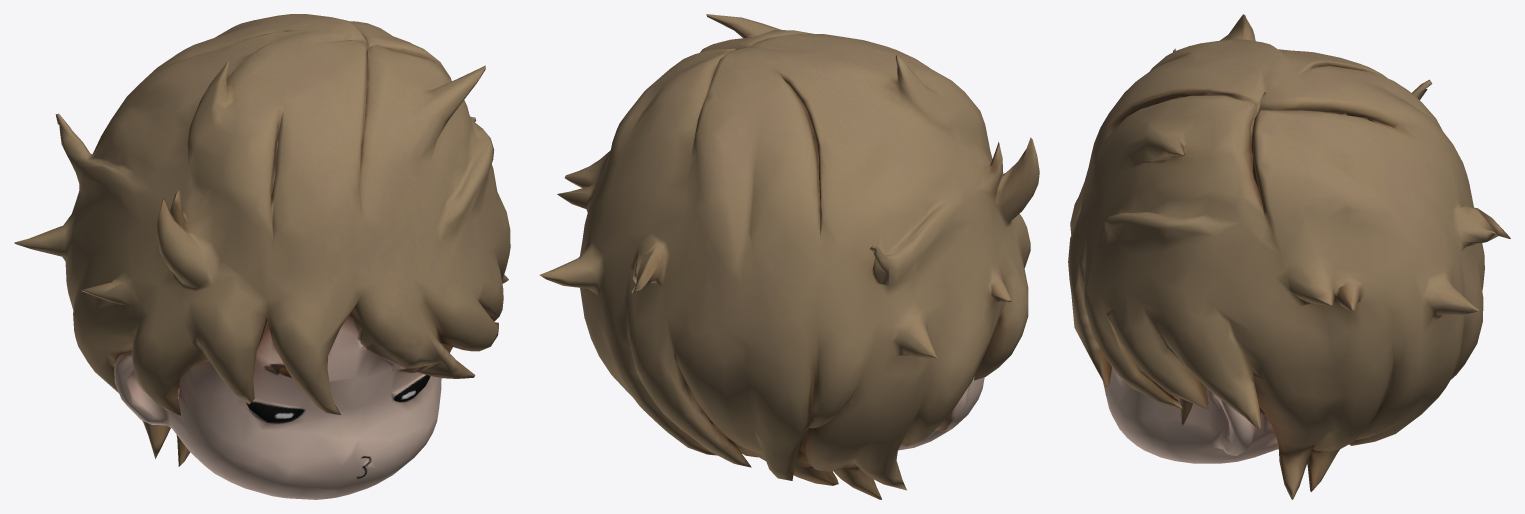
File: head.glb
3 views of the same model, side by side, from view 1: azimuth 30°, elevation 25°; view 2: azimuth 150°, elevation 25°; view 3: azimuth 270°, elevation 25° (orthographic). The views are drawn at different scales.
Parts seen in each view (by area): view 1: tripo_node_b18a7cfa.001; view 2: tripo_node_b18a7cfa.001; view 3: tripo_node_b18a7cfa.001.
Boxes of the visible parts, box(x1,y1,x2,y2) form: tripo_node_b18a7cfa.001: box(14, 14, 510, 499); tripo_node_b18a7cfa.001: box(539, 14, 1039, 499); tripo_node_b18a7cfa.001: box(1068, 14, 1510, 499).
Size of the model in its own units: 0.5135 by 0.4912 by 0.4857.
1 material, 1 textured.
